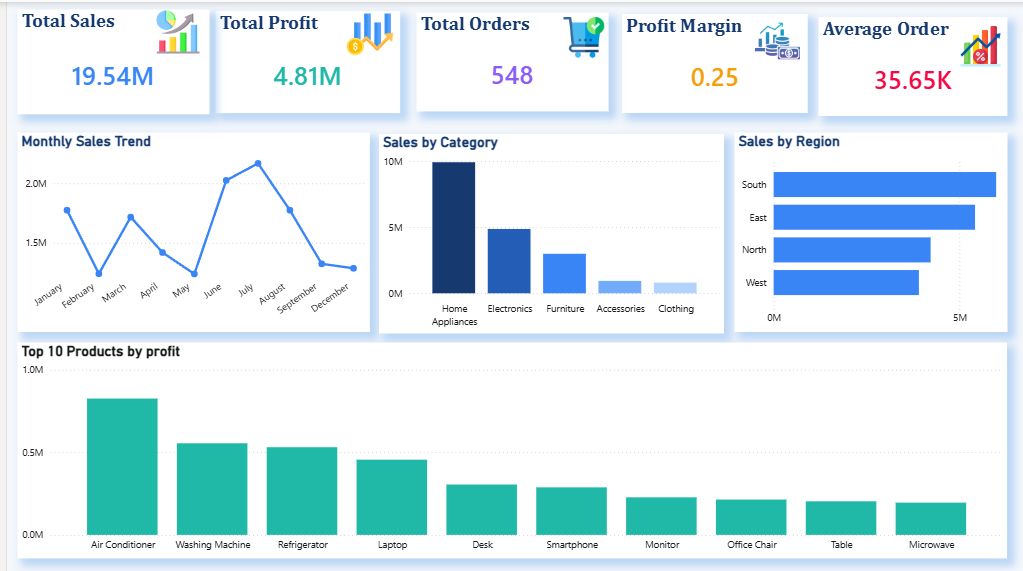

Layout of this report page (visuals, bound fields, positions):
{"tool":"powerbi","page":{"name":"Sales Overview","canvas":[1280,720],"ordinal":0},"visuals":[{"type":"cardVisual","title":"Total Profit","fields":{"Data":["Sales_Data.Total Profit"]},"box":[262.7,11.3,232.4,128.5],"z":0},{"type":"cardVisual","title":"Profit Margin","fields":{"Data":["Sales_Data.Profit Margin"]},"box":[774.8,15.1,234.3,124.7],"z":1000},{"type":"lineChart","title":"Monthly Sales Trend","fields":{"Category":["Sales_Data.Order_Date.Variation.Date Hierarchy.Month"],"Y":["Sum(Sales_Data.Sales)"]},"box":[13.2,164.4,444.1,251.3],"z":2000},{"type":"clusteredColumnChart","title":" Sales by Category","fields":{"Y":["Sum(Sales_Data.Sales)"],"Category":["Sales_Data.Category"]},"box":[468.7,166.3,434.6,251.3],"z":3000},{"type":"barChart","title":"Sales by Region","fields":{"Category":["Sales_Data.Region"],"Y":["Sum(Sales_Data.Sales)"]},"box":[916.5,164.4,343.9,251.3],"z":4000},{"type":"columnChart","title":"Top 10 Products by profit","fields":{"Category":["Sales_Data.Product"],"Y":["Sales_Data.Total Profit"]},"box":[13,429.1,1246.8,272],"z":5000},{"type":"cardVisual","title":"Total Orders","fields":{"Data":["Sales_Data.Total Orders"]},"box":[515.9,13.2,241.9,124.7],"z":6000},{"type":"cardVisual","title":"Total Sales","fields":{"Data":["Sales_Data.Total Sales"]},"box":[13.2,9.4,241.9,132.3],"z":7000},{"type":"image","box":[175.7,9.4,79.4,56.7],"z":8000},{"type":"image","box":[423.3,11.3,68,58.6],"z":9000},{"type":"image","box":[678.4,18.9,96.4,51],"z":10000},{"type":"cardVisual","title":"Average Order","fields":{"Data":["Sales_Data.Average Order Value"]},"box":[1022.4,18.9,238.1,124.7],"z":12000},{"type":"image","box":[1192.5,30.2,68,51],"z":12001},{"type":"image","box":[931.7,20.8,77.5,56.7],"z":12002}]}

Visuals, with their boxes in screenshot pixels (x1, y1, x2, y2), scaled from the page's 1280x720 canvas onto the 1023x571 screenshot:
"Total Profit" cardVisual: (210, 9, 396, 111)
"Profit Margin" cardVisual: (619, 12, 806, 111)
"Monthly Sales Trend" lineChart: (11, 130, 365, 330)
" Sales by Category" clusteredColumnChart: (375, 132, 722, 331)
"Sales by Region" barChart: (732, 130, 1007, 330)
"Top 10 Products by profit" columnChart: (10, 340, 1007, 556)
"Total Orders" cardVisual: (412, 10, 606, 109)
"Total Sales" cardVisual: (11, 7, 204, 112)
image: (140, 7, 204, 52)
image: (338, 9, 393, 55)
image: (542, 15, 619, 55)
"Average Order" cardVisual: (817, 15, 1007, 114)
image: (953, 24, 1007, 64)
image: (745, 16, 807, 61)
